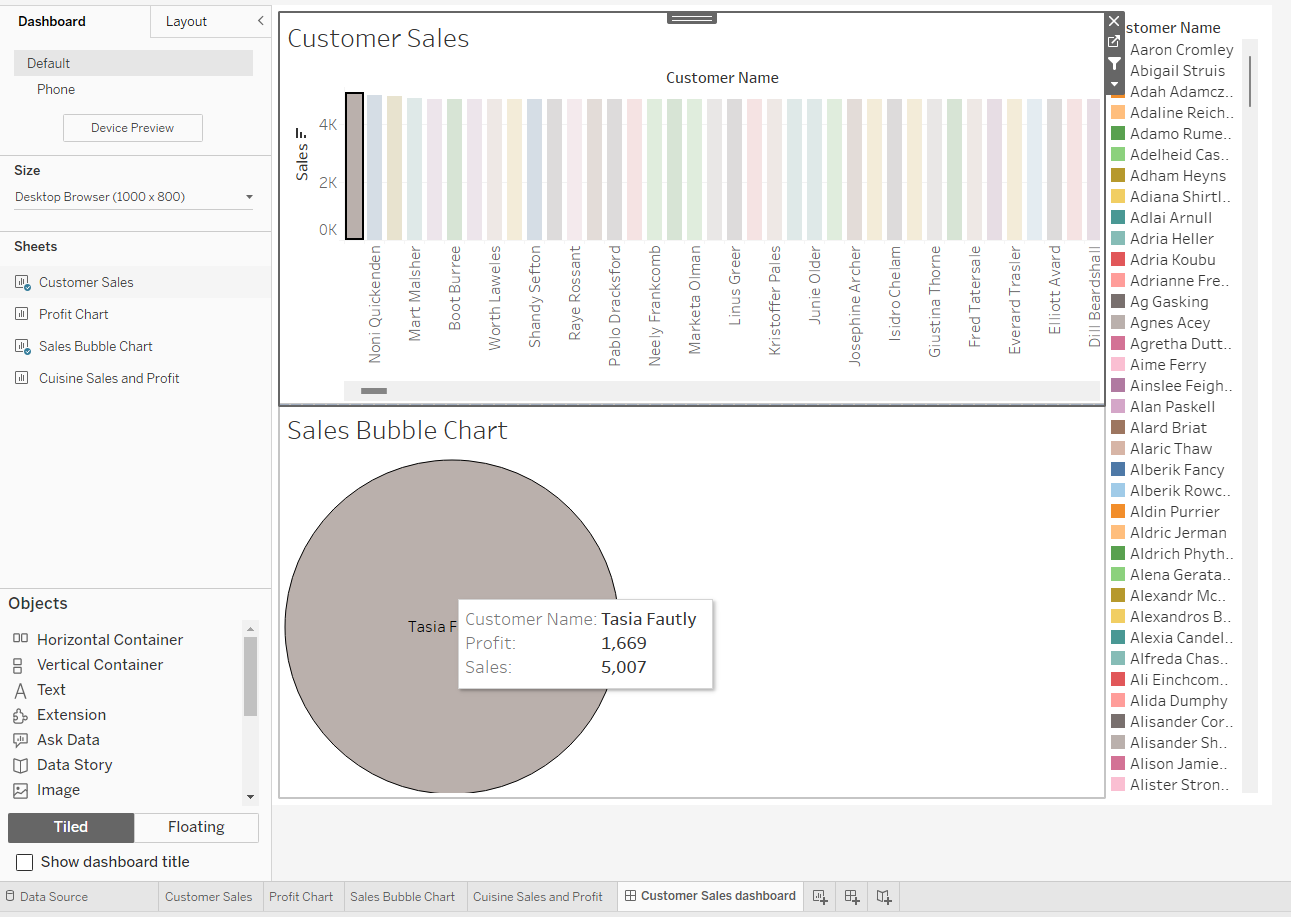

Layout of this report page (visuals, bound fields, positions):
{"tool":"tableau","page":{"name":"Customer Sales dashboard","canvas":[1000,800],"ordinal":0},"visuals":[{"type":"worksheet","title":"Customer Sales","mark":"Automatic","rows":["Sales"],"cols":["Customer Name"],"box":[8,8,824,392]},{"type":"legend","title":"Customer Sales","param":"[federated.1ehobl60bqb33f11qza49161w097].[none:Customer Name:nk]","box":[832,8,160,784]},{"type":"worksheet","title":"Sales Bubble Chart","mark":"Circle","box":[8,400,824,392]}]}

Visuals, with their boxes on the page's 1000x800 design canvas (x1, y1, x2, y2). These are canvas units, not pixel positions in the 1291x917 screenshot, which may show the page scaled, cropped or inside an application window:
"Customer Sales" worksheet: left=8, top=8, right=832, bottom=400
"Customer Sales" legend: left=832, top=8, right=992, bottom=792
"Sales Bubble Chart" worksheet (Circle marks): left=8, top=400, right=832, bottom=792
